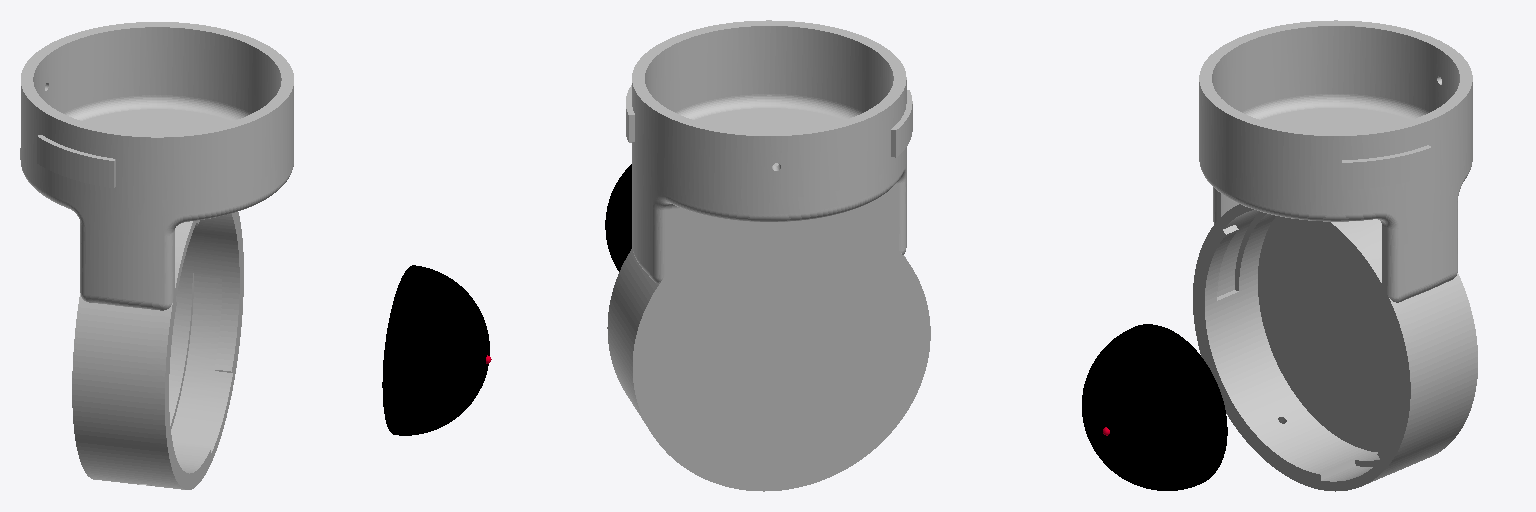
The robot description file, URDF, robot "panda":
<?xml version="1.0" ?>

<robot name="panda" xmlns:xacro="http://www.ros.org/wiki/xacro">

  <material name="Blue">
    <color rgba="0 0.1 1.0 1.0"/>
  </material>
  <material name="Red">
    <color rgba="1.0 0.0 0.0 1.0"/>
  </material>
  <material name="TransparentRed">
    <color rgba="0.9 0 0.2 0.5"/>
  </material>

  <!-- connect arm to world -->
    <link name="world"/>
    <joint name="world_joint" type="fixed">
      <parent link="world"/>
      <child link="fixed_base"/>
      <origin rpy="0.0 0.0 -3.14" xyz="0.0 0.0 0.0"/>
    </joint>

  <link name="fixed_base">
  	<inertial>
      <origin rpy="0 0 0" xyz="0 0 0.05"/>
       <mass value="2.9"/>
       <inertia ixx="0.1" ixy="0" ixz="0" iyy="0.1" iyz="0" izz="0.1"/>
    </inertial>
    <visual>
      <geometry>
        <mesh filename="collision/link0.obj"/>
      </geometry>
      <material name="panda_white">
    		<color rgba="1. 1. 1. 1."/>
  		</material>
    </visual>
    <collision>
      <geometry>
        <mesh filename="collision/link0.obj"/>
      </geometry>
      <material name="panda_white"/>
    </collision>
  </link>

  <link name="panda_link1">
  	<inertial>
      <origin rpy="0 0 0" xyz="0 -0.04 -0.05"/>
       <mass value="2.7"/>
       <inertia ixx="0.1" ixy="0" ixz="0" iyy="0.1" iyz="0" izz="0.1"/>
    </inertial>
    <visual>
      <geometry>
        <mesh filename="visual/link1.obj"/>
      </geometry>
      <material name="panda_white"/>
    </visual>
    <collision>
      <geometry>
        <mesh filename="collision/link1.obj"/>
      </geometry>
      <material name="panda_white"/>
    </collision>
  </link>

  <joint name="panda_joint1" type="revolute">
    <safety_controller k_position="100.0" k_velocity="40.0" soft_lower_limit="-2.8973" soft_upper_limit="2.8973"/>
    <origin rpy="0 0 0" xyz="0 0 0.333"/>
    <parent link="fixed_base"/>
    <child link="panda_link1"/>
    <axis xyz="0 0 1"/>
    <limit effort="87" lower="-100" upper="100" velocity="2.1750"/>
  </joint>

  <link name="panda_link2">
  	<inertial>
      <origin rpy="0 0 0" xyz="0 -0.04 0.06"/>
       <mass value="2.73"/>
       <inertia ixx="0.1" ixy="0" ixz="0" iyy="0.1" iyz="0" izz="0.1"/>
    </inertial>
    <visual>
      <geometry>
        <mesh filename="visual/link2.obj"/>
      </geometry>
      <material name="panda_white"/>
    </visual>
    <collision>
      <geometry>
        <mesh filename="collision/link2.obj"/>
      </geometry>
      <material name="panda_white"/>
    </collision>
  </link>

  <joint name="panda_joint2" type="revolute">
    <safety_controller k_position="100.0" k_velocity="40.0" soft_lower_limit="-1.7628" soft_upper_limit="1.7628"/>
    <origin rpy="-1.57079632679 0 0" xyz="0 0 0"/>
    <parent link="panda_link1"/>
    <child link="panda_link2"/>
    <axis xyz="0 0 1"/>
    <limit effort="87" lower="-100" upper="100" velocity="2.1750"/>
  </joint>

  <link name="panda_link3">
	  <inertial>
      <origin rpy="0 0 0" xyz="0.01 0.01 -0.05"/>
       <mass value="2.04"/>
       <inertia ixx="0.1" ixy="0" ixz="0" iyy="0.1" iyz="0" izz="0.1"/>
    </inertial>
    <visual>
      <geometry>
        <mesh filename="visual/link3.obj"/>
      </geometry>
      <material name="panda_red">
    		<color rgba="1. 1. 1. 1."/>
  		</material>
    </visual>
    <collision>
      <geometry>
        <mesh filename="collision/link3.obj"/>
      </geometry>
    </collision>
  </link>

  <joint name="panda_joint3" type="revolute">
    <safety_controller k_position="100.0" k_velocity="40.0" soft_lower_limit="-2.8973" soft_upper_limit="2.8973"/>
    <origin rpy="1.57079632679 0 0" xyz="0 -0.316 0"/>
    <parent link="panda_link2"/>
    <child link="panda_link3"/>
    <axis xyz="0 0 1"/>
    <limit effort="87" lower="-100" upper="100" velocity="2.1750"/>
  </joint>

  <link name="panda_link4">
  	<inertial>
      <origin rpy="0 0 0" xyz="-0.03 0.03 0.02"/>
       <mass value="2.08"/>
       <inertia ixx="0.1" ixy="0" ixz="0" iyy="0.1" iyz="0" izz="0.1"/>
    </inertial>
    <visual>
      <geometry>
        <mesh filename="visual/link4.obj"/>
      </geometry>
      <material name="panda_white"/>
    </visual>
    <collision>
      <geometry>
        <mesh filename="collision/link4.obj"/>
      </geometry>
      <material name="panda_white"/>
    </collision>
  </link>

  <joint name="panda_joint4" type="revolute">
    <safety_controller k_position="100.0" k_velocity="40.0" soft_lower_limit="-3.0718" soft_upper_limit="-0.0698"/>
    <origin rpy="1.57079632679 0 0" xyz="0.0825 0 0"/>
    <parent link="panda_link3"/>
    <child link="panda_link4"/>
    <axis xyz="0 0 1"/>
    <limit effort="87" lower="-100" upper="100" velocity="2.1750"/>
  </joint>

  <link name="panda_link5">
  	<inertial>
      <origin rpy="0 0 0" xyz="0 0.04 -0.12"/>
       <mass value="3"/>
       <inertia ixx="0.1" ixy="0" ixz="0" iyy="0.1" iyz="0" izz="0.1"/>
    </inertial>
    <visual>
      <geometry>
        <mesh filename="visual/link5.obj"/>
      </geometry>
      <material name="panda_white"/>
    </visual>
    <collision>
      <geometry>
        <mesh filename="collision/link5.obj"/>
      </geometry>
      <material name="panda_white"/>
    </collision>
  </link>

  <joint name="panda_joint5" type="revolute">
    <safety_controller k_position="100.0" k_velocity="40.0" soft_lower_limit="-2.8973" soft_upper_limit="2.8973"/>
    <origin rpy="-1.57079632679 0 0" xyz="-0.0825 0.384 0"/>
    <parent link="panda_link4"/>
    <child link="panda_link5"/>
    <axis xyz="0 0 1"/>
    <limit effort="12" lower="-100" upper="100" velocity="2.6100"/>
  </joint>

  <link name="panda_link6">
  	<inertial>
      <origin rpy="0 0 0" xyz="0.04 0 0"/>
       <mass value="1.3"/>
       <inertia ixx="0.1" ixy="0" ixz="0" iyy="0.1" iyz="0" izz="0.1"/>
    </inertial>
    <visual>
      <geometry>
        <mesh filename="visual/link6.obj"/>
      </geometry>
      <material name="panda_white"/>
    </visual>
    <collision>
      <geometry>
        <mesh filename="collision/link6.obj"/>
      </geometry>
      <material name="panda_white"/>
    </collision>
  </link>

  <joint name="panda_joint6" type="revolute">
    <safety_controller k_position="100.0" k_velocity="40.0" soft_lower_limit="-0.0175" soft_upper_limit="3.7525"/>
    <origin rpy="1.57079632679 0 0" xyz="0 0 0"/>
    <parent link="panda_link5"/>
    <child link="panda_link6"/>
    <axis xyz="0 0 1"/>
    <limit effort="12" lower="-100" upper="100" velocity="2.6100"/>
  </joint>

  <link name="panda_link7">
  	<inertial>
      <origin rpy="0 0 0" xyz="0 0 0.08"/>
       <mass value=".2"/>
       <inertia ixx="0.1" ixy="0" ixz="0" iyy="0.1" iyz="0" izz="0.1"/>
    </inertial>
    <visual>
      <geometry>
        <mesh filename="collision/link7.obj"/>
      </geometry>
      <material name="panda_white"/>
    </visual>
    <collision>
      <geometry>
        <mesh filename="collision/link7.obj"/>
      </geometry>
      <material name="panda_white"/>
    </collision>
  </link>

  <joint name="panda_joint7" type="revolute">
    <safety_controller k_position="100.0" k_velocity="40.0" soft_lower_limit="-2.8973" soft_upper_limit="2.8973"/>
    <origin rpy="1.57079632679 0 0" xyz="0.088 0 0"/>
    <parent link="panda_link6"/>
    <child link="panda_link7"/>
    <axis xyz="0 0 1"/>
    <limit effort="12" lower="-100" upper="100" velocity="2.6100"/>
  </joint>


  <!-- End Effector -->

  <link name="ee_link">
    <visual>
      <origin rpy="0 0 0" xyz="0 0 0"/>
      <geometry>
        <sphere radius="0.001"/>
      </geometry>
       <material name="Red"/>
    </visual>
    <collision>
      <geometry>
        <sphere radius="0.01"/>
      </geometry>
      <origin rpy="0 0 0" xyz="0.0 0 0"/>
    </collision>
  	 <inertial>
       <origin rpy="0 0 0" xyz="0 0 0"/>
       <mass value="0.0"/>
       <inertia ixx="0.1" ixy="0" ixz="0" iyy="0.1" iyz="0" izz="0.1"/>
    </inertial>
  </link>

  <joint name="ee_joint" type="fixed">
    <origin rpy="0.0 0.0 0.0" xyz="0 0 0.107"/>
    <parent link="panda_link7"/>
    <child link="ee_link"/>
    <axis xyz="0 0 0"/>
  </joint>


  <!-- TacTip -->

  <link name="tactip_adapter_link">
    <inertial>
      <origin rpy="0 0 0" xyz="0 0 0"/>
       <mass value="0.1"/>
       <inertia ixx="0.001" ixy="0" ixz="0" iyy="0.001" iyz="0" izz="0.001"/>
    </inertial>
    <visual>
      <origin rpy="0 0 0" xyz="0 0 0"/>
      <geometry>
        <mesh filename="../tactip/right_angle_tactip/adapter/right_angle_adapter.obj" scale="1.0 1.0 1.0"/>
      </geometry>
       <material name="whitish">
        <color rgba="0.8 0.8 0.8 1.0"/>
      </material>
    </visual>
    <collision>
      <origin rpy="0 0 0" xyz="0 0 0"/>
      <geometry>
        <mesh filename="../tactip/right_angle_tactip/adapter/right_angle_adapter.obj" scale="1.0 1.0 1.0"/>
      </geometry>
    </collision>
  </link>

    <joint name="tactip_ee_joint" type="fixed">
      <parent link="ee_link"/>
      <child link="tactip_adapter_link"/>
      <origin rpy="0.0 1.57 -2.35619" xyz="0.0 0.005 0.04"/>
    </joint>

  <link name="tactip_body_link">
    <inertial>
      <origin rpy="0 0 0" xyz="0 0 0"/>
       <mass value="0.25"/>
       <inertia ixx="0.001" ixy="0" ixz="0" iyy="0.001" iyz="0" izz="0.001"/>
    </inertial>
    <visual>
      <origin rpy="0 0 0" xyz="0 0 0"/>
      <geometry>
        <mesh filename="../tactip/standard_tactip/body/tactip_body.obj" scale="1.0 1.0 1.0"/>
      </geometry>
       <material name="whitish">
        <color rgba="0.8 0.8 0.8 1.0"/>
      </material>
    </visual>
    <collision>
      <origin rpy="0 0 0" xyz="0 0 0"/>
      <geometry>
        <mesh filename="../tactip/standard_tactip/body/tactip_body.obj" scale="1.0 1.0 1.0"/>
      </geometry>
    </collision>
  </link>

  <joint name="tactip_body_to_adapter" type="fixed">
     <origin rpy="0 0 0" xyz="0 0 0"/>
     <parent link="tactip_adapter_link"/>
     <child link="tactip_body_link"/>
  </joint>

  <link name="tactip_tip_link">
    <contact>
      <friction_anchor/>
      <lateral_friction value="1.0"/>
    </contact>
    <inertial>
      <origin rpy="0 0 0" xyz="0 0 0"/>
       <mass value=".1"/>
       <inertia ixx="1" ixy="0" ixz="0" iyy="1" iyz="0" izz="1"/>
    </inertial>
    <visual>
      <origin rpy="0 0 0" xyz="0 0 0"/>
      <geometry>
        <mesh filename="../tactip/standard_tactip/tip/skin.obj" scale="1.0 1.0 1.0"/>
      </geometry>
       <material name="black">
        <color rgba="0.0 0.0 0.0 1.0"/>
      </material>
    </visual>
    <collision>
      <origin rpy="0 0 0" xyz="0 0 0"/>
      <geometry>
        <mesh filename="../tactip/standard_tactip/tip/core.obj" scale="1 1 1"/>
      </geometry>
    </collision>
  </link>

  <joint name="tactip_tip_to_body" type="fixed">
     <origin rpy="1.57 0 0" xyz="0 0 0.065"/>
     <axis xyz="0 1 0"/>
     <parent link="tactip_body_link"/>
     <child link="tactip_tip_link"/>
  </joint>

  <!-- TCP -->
  <link name="tcp_link">
    <visual>
      <origin rpy="0 0 0" xyz="0 0 0"/>
      <geometry>
        <sphere radius="0.001"/>
      </geometry>
       <material name="TransparentRed"/>
    </visual>
    <inertial>
      <mass value="0.0"/>
      <origin rpy="0.0 -1.57 0.0" xyz="0.0 0.0 0.0"/>
      <inertia ixx="1.0" ixy="0.0" ixz="0.0" iyy="1.0" iyz="0.0" izz="1.0"/>
    </inertial>
  </link>

  <joint name="tcp_joint" type="fixed">
    <parent link="tactip_body_link"/>
    <child link="tcp_link"/>
    <origin rpy="0 0 0" xyz="0.0 0.0 0.085"/>
  </joint>



</robot>

--- What the picture shows (computed from the rendered views, not written in the file) ---
3 views of the same robot in one strip: view 1: azimuth 30°, elevation 25°; view 2: azimuth 150°, elevation 25°; view 3: azimuth 270°, elevation 25° (orthographic).
Robot: panda — 14 links, 13 joints (7 revolute, 6 fixed); root link world; default pose: all joints at 0.
Visible links, largest first — view 1: tactip_adapter_link, tactip_tip_link; view 2: tactip_adapter_link, tactip_tip_link; view 3: tactip_adapter_link, tactip_tip_link.
Link boxes in pixels (box(x1,y1,x2,y2)): tactip_adapter_link: box(20, 22, 293, 489); tactip_tip_link: box(382, 265, 489, 435); tactip_adapter_link: box(607, 20, 930, 491); tactip_tip_link: box(605, 164, 631, 271); tactip_adapter_link: box(1193, 20, 1477, 491); tactip_tip_link: box(1082, 324, 1227, 490).
Bounding box of the posed robot: 0.0972 × 0.0928 × 0.101 m (x, y, z).
2 mesh visuals loaded from 11 distinct referenced files (2 OBJ); not drawn: 9 (reference not matched to a file when rendering).